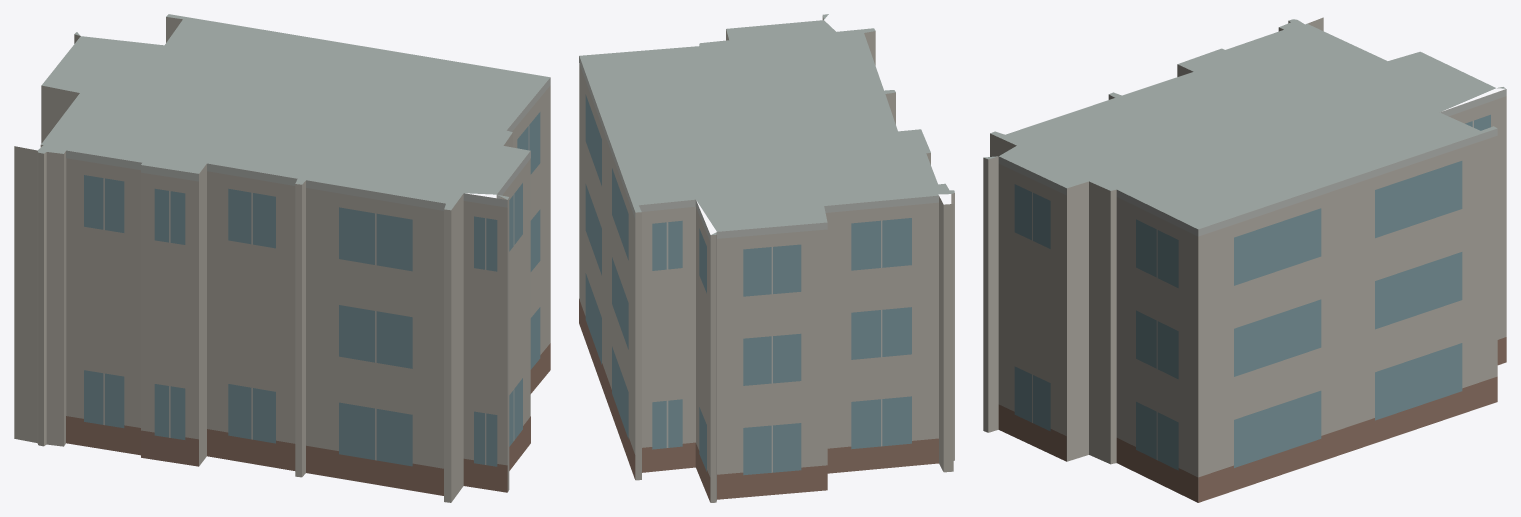
The model's file is survey-upis-32471696.glb.
The picture shows the model from 3 angles, left to right: view 1: azimuth 30°, elevation 25°; view 2: azimuth 150°, elevation 25°; view 3: azimuth 270°, elevation 25°; orthographic projection. The views are drawn at different scales.
Visible parts, largest first — view 1: survey-upis-32471696.tmp; view 2: survey-upis-32471696.tmp; view 3: survey-upis-32471696.tmp.
Part boxes in pixels (x1,y1,x2,y2): survey-upis-32471696.tmp: (14,14,550,502); survey-upis-32471696.tmp: (579,14,954,502); survey-upis-32471696.tmp: (983,17,1506,502).
Size of the model in its own units: 15.73 by 9.3 by 16.14.
